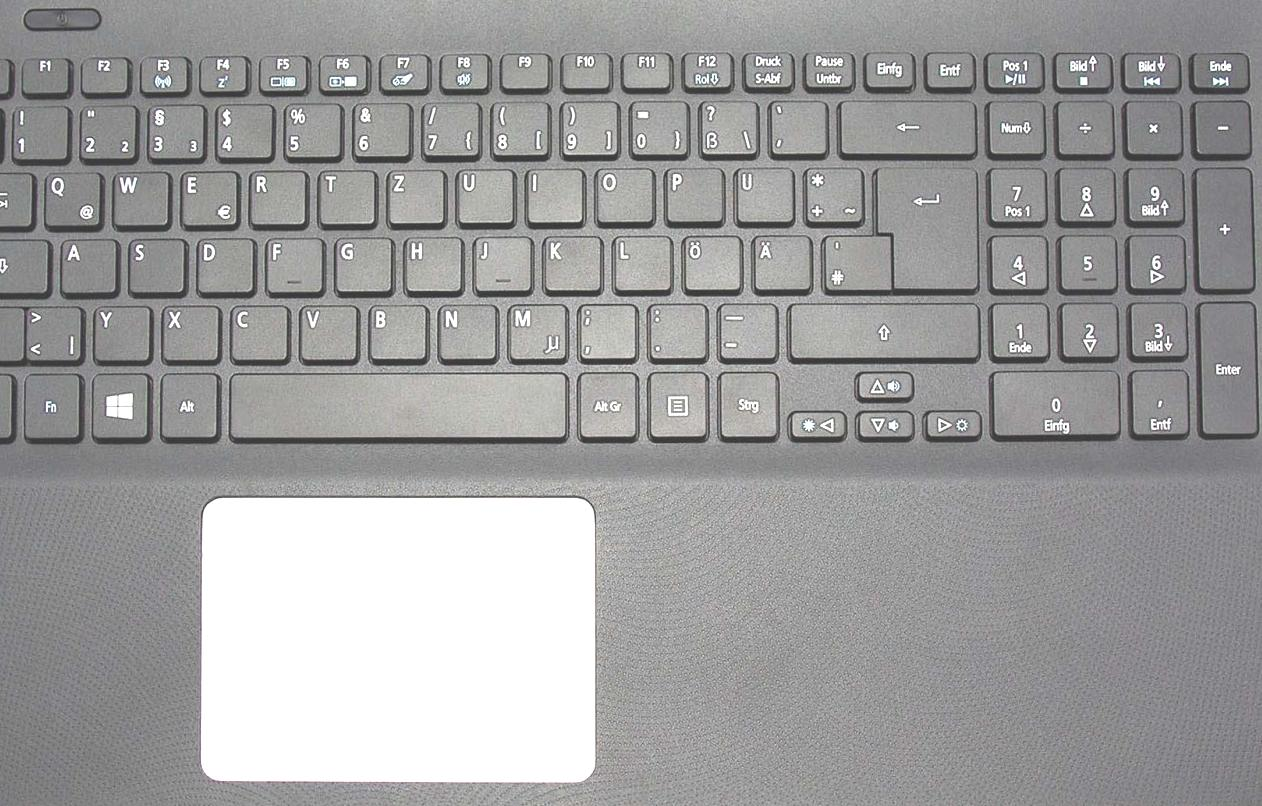0: (625, 99, 690, 158)
1: (10, 104, 71, 164)
2: (77, 103, 138, 162)
3: (145, 103, 206, 161)
4: (213, 102, 274, 162)
5: (282, 101, 343, 161)
6: (350, 101, 411, 160)
7: (420, 100, 481, 159)
8: (488, 100, 550, 159)
9: (557, 99, 620, 159)
a: (58, 237, 120, 298)
accent: (766, 98, 828, 158)
ae: (749, 233, 813, 293)
alt-left: (158, 372, 220, 442)
altgr-right: (575, 370, 639, 442)
b: (365, 303, 429, 364)
c: (227, 303, 290, 364)
caret: (1, 105, 24, 163)
comma: (574, 302, 639, 363)
d: (193, 236, 256, 297)
del: (836, 98, 977, 158)
e: (178, 169, 240, 230)
enter: (880, 166, 978, 290)
f: (263, 236, 325, 297)
g: (331, 236, 394, 296)
h: (401, 235, 464, 296)
hash: (820, 233, 890, 293)
i: (523, 167, 585, 228)
j: (470, 234, 534, 295)
k: (539, 233, 604, 295)
keyboard: (1, 37, 1262, 466)
l: (609, 233, 674, 295)
less: (24, 303, 84, 364)
m: (505, 302, 569, 364)
minus: (714, 302, 780, 363)
n: (435, 302, 499, 364)
o: (591, 166, 656, 226)
oe: (679, 233, 744, 294)
p: (662, 166, 726, 227)
plus: (802, 165, 866, 226)
point: (644, 301, 709, 363)
q: (40, 171, 104, 230)
r: (247, 168, 308, 229)
s: (125, 236, 187, 297)
shift-left: (1, 304, 35, 364)
shift-lock: (1, 238, 53, 298)
shift-right: (787, 301, 980, 362)
space: (226, 371, 570, 442)
ss: (697, 98, 758, 157)
strg-left: (1, 371, 33, 442)
strg-right: (716, 370, 780, 442)
t: (316, 167, 377, 229)
tab: (1, 171, 40, 230)
u: (454, 167, 516, 227)
ue: (731, 165, 796, 228)
v: (297, 302, 360, 364)
w: (110, 169, 172, 229)
x: (159, 303, 221, 364)
y: (91, 304, 152, 364)
z: (385, 167, 446, 228)
